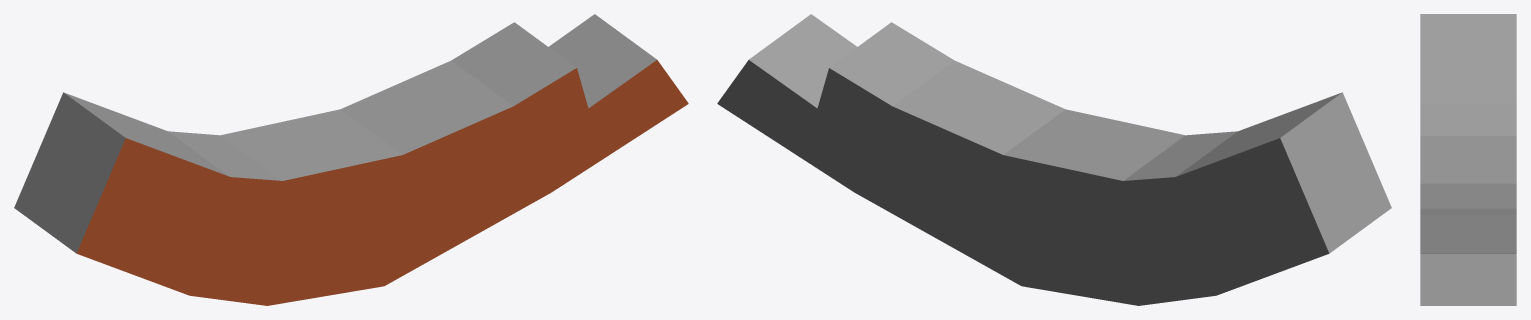
File: construction_5022_assumed_A_Casa_h6m.obj
The picture shows the model from 3 angles, left to right: view 1: azimuth 30°, elevation 25°; view 2: azimuth 150°, elevation 25°; view 3: azimuth 270°, elevation 25°; orthographic projection. The views are drawn at different scales.
Parts seen in each view (by area): view 1: construction_5022_assumed_A_Casa; view 2: construction_5022_assumed_A_Casa; view 3: construction_5022_assumed_A_Casa.
Boxes of the visible parts, box(x1,y1,x2,y2) form: construction_5022_assumed_A_Casa: box(14, 14, 688, 305); construction_5022_assumed_A_Casa: box(717, 14, 1391, 305); construction_5022_assumed_A_Casa: box(1420, 14, 1516, 305).
Size of the model in its own units: 33.96 by 11.2 by 6.
